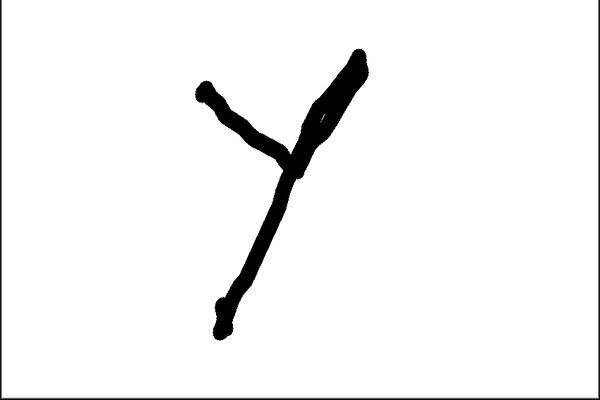Y: (186, 43, 383, 349)
